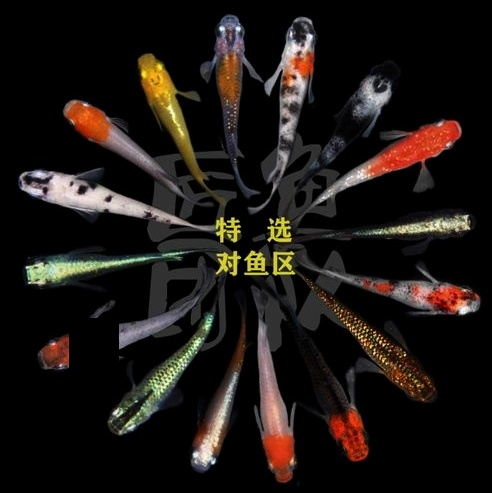fry: (16, 159, 161, 231), (195, 10, 265, 156), (341, 315, 445, 407), (333, 264, 489, 324), (298, 349, 376, 466), (244, 348, 307, 486), (126, 49, 202, 160), (267, 7, 322, 158), (2, 243, 166, 292), (28, 322, 173, 375), (179, 363, 242, 478), (100, 364, 188, 444), (57, 94, 143, 167), (344, 210, 489, 252), (385, 116, 464, 189), (328, 63, 392, 139)
